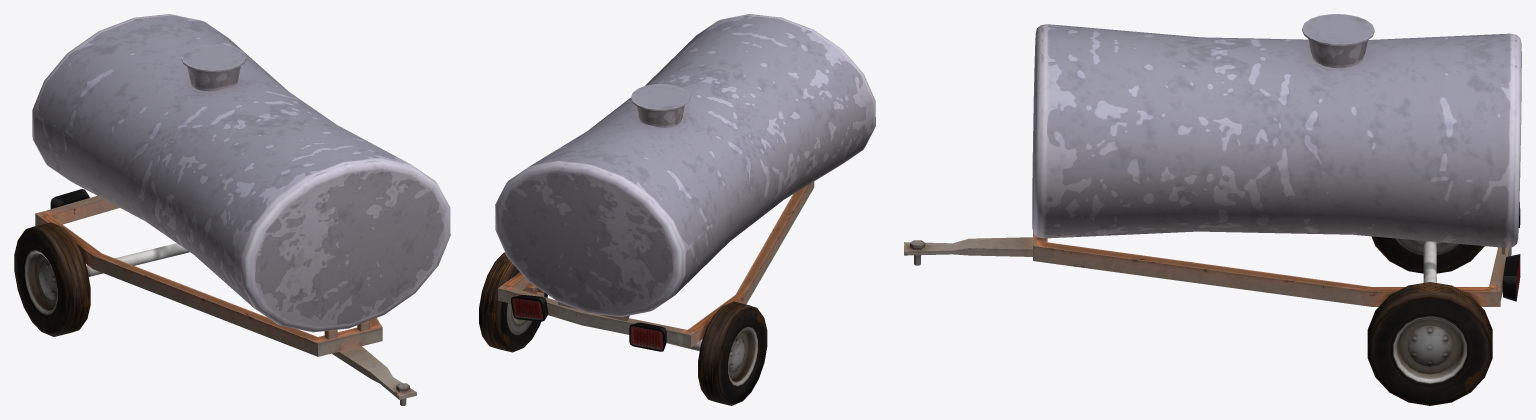
The model's file is Tractor01Tank01.FBX.
3 renders of one model, left to right at view 1: azimuth 30°, elevation 25°; view 2: azimuth 150°, elevation 25°; view 3: azimuth 270°, elevation 25°, orthographic. The views are drawn at different scales.
Visible parts, largest first — view 1: Tractor01Tank01; view 2: Tractor01Tank01; view 3: Tractor01Tank01.
Part boxes in pixels (x1,y1,x2,y2): Tractor01Tank01: [14, 14, 450, 405]; Tractor01Tank01: [479, 14, 875, 405]; Tractor01Tank01: [904, 14, 1521, 405].
Size of the model in its own units: 1.78 by 1.78 by 3.24.
